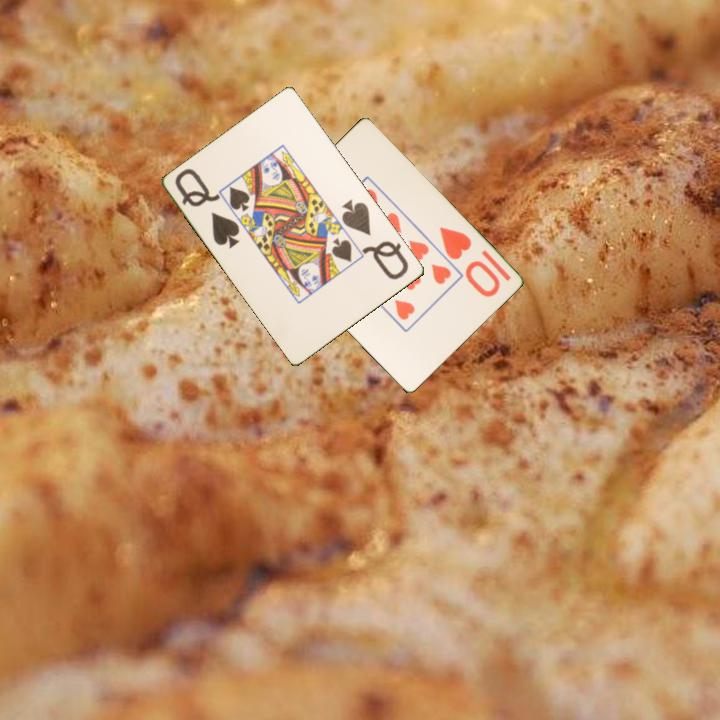10h: (435, 223, 503, 300)
Qs: (338, 195, 412, 283), (171, 165, 243, 252)
